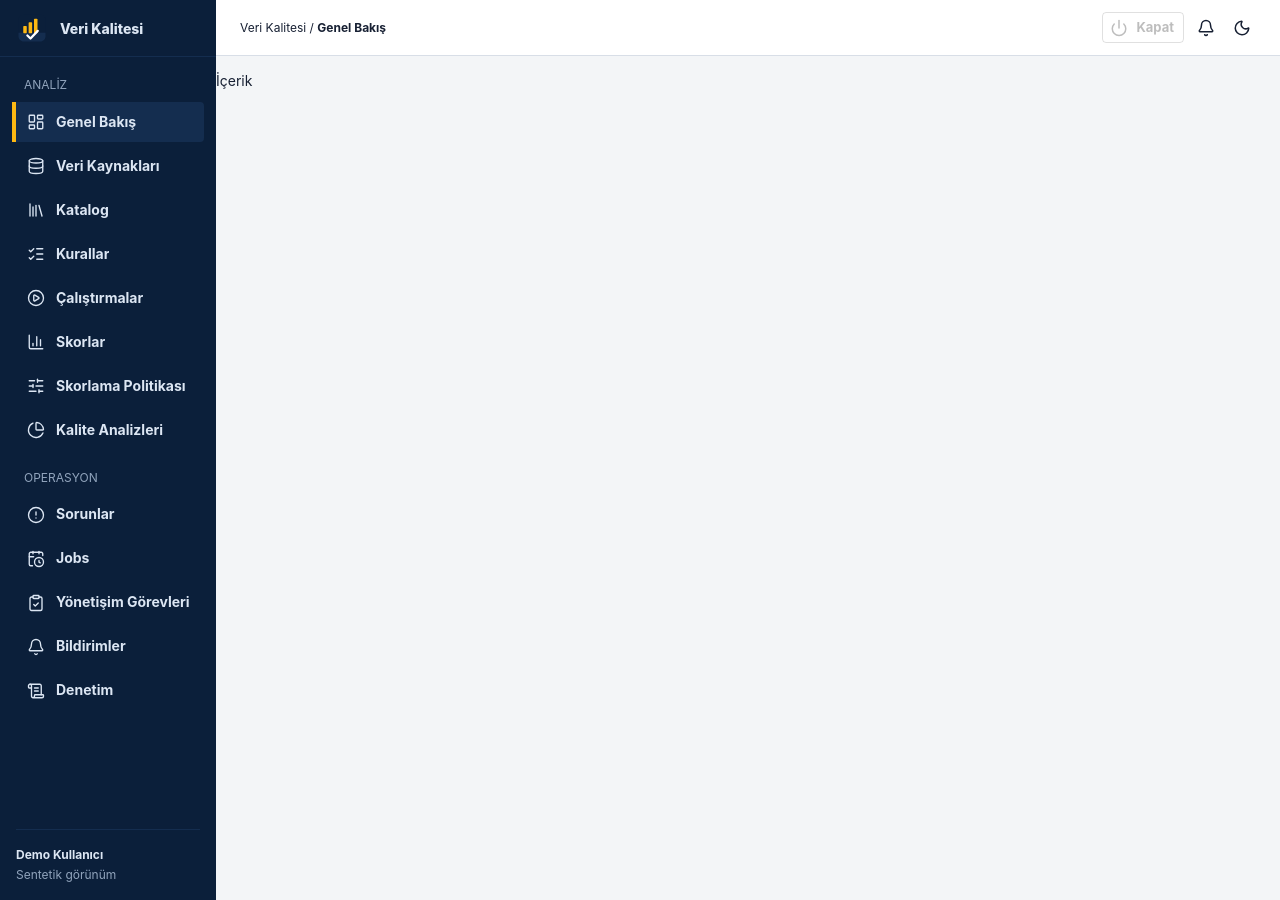
Test: AppShell › açık temayla başlar ve koyu tema tercihini kalıcılaştırır
The image size is (1280, 900).
What coordinates should you click on to do the following:
click the button named "Koyu temaya geç"
I would click on:
 (1242, 28)
Its box is [1228,14,1256,42].
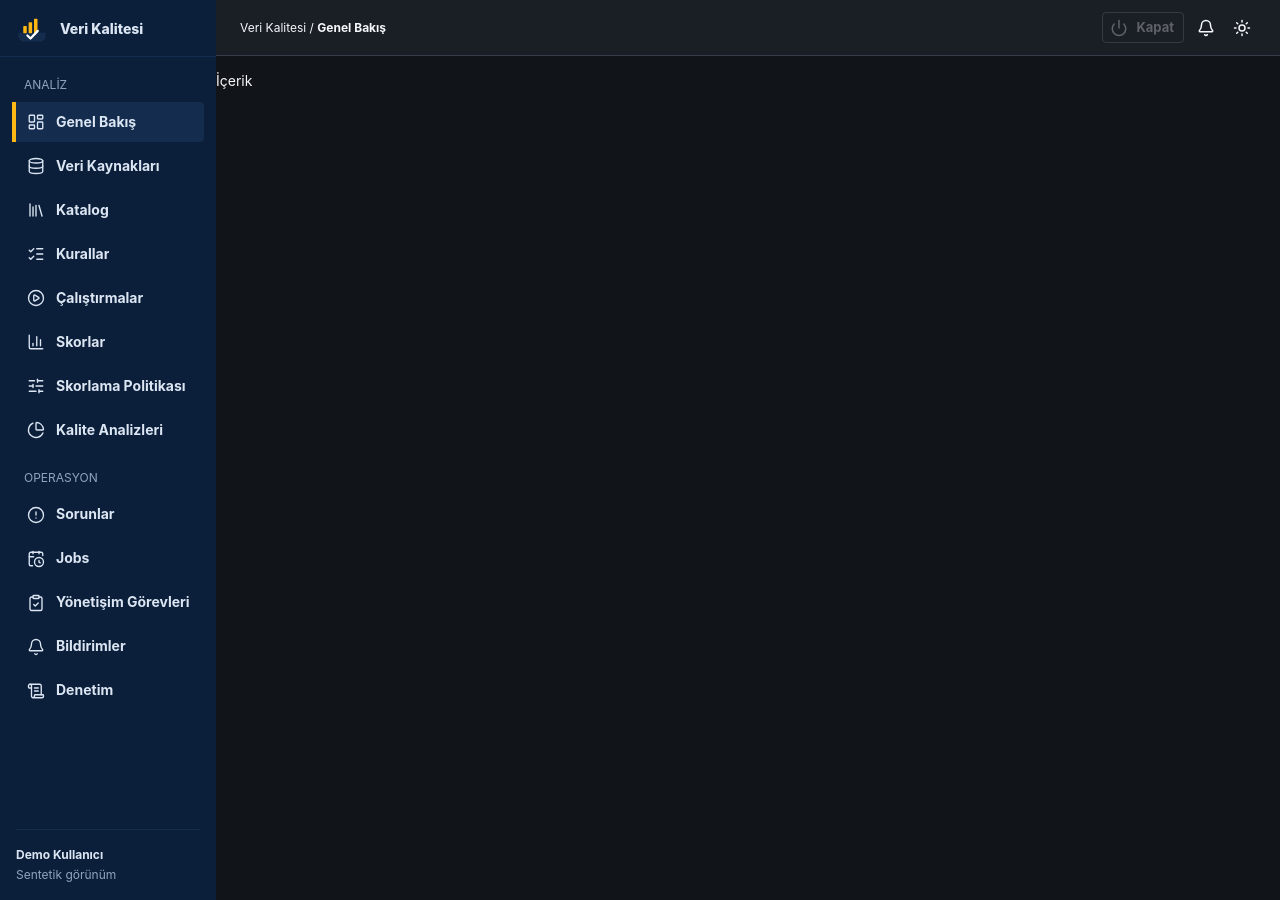
Expected: the button named "Açık temaya geç" is shown, [1228,14,1256,42]
